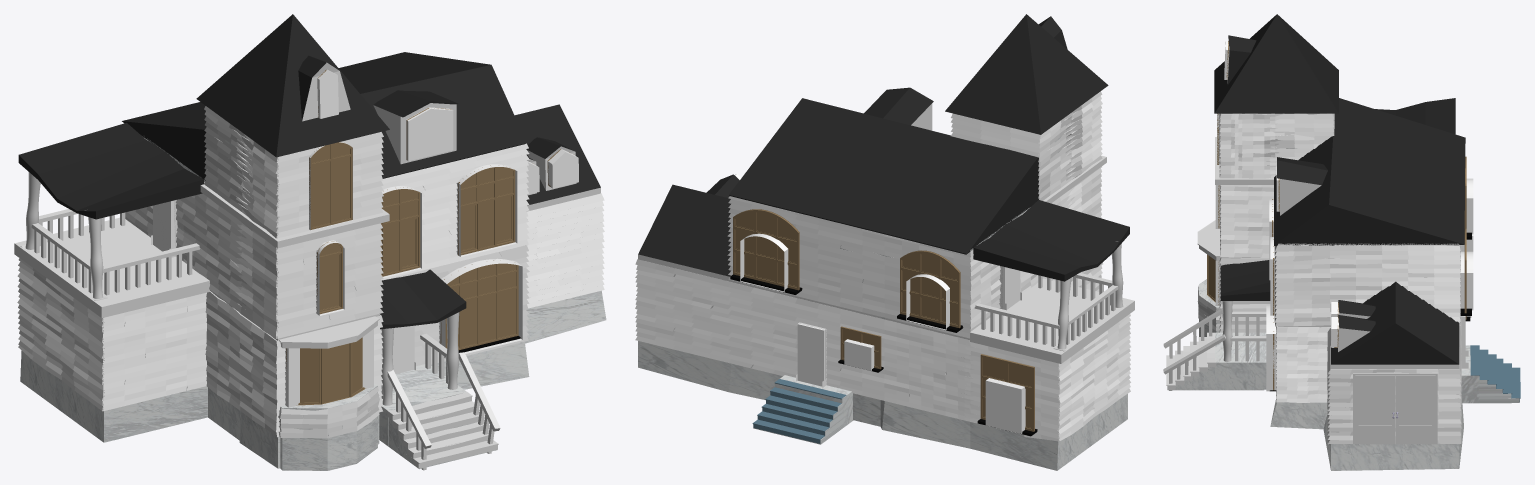
The model's file is Manor2.fbx.
The picture shows the model from 3 angles, left to right: view 1: azimuth 30°, elevation 25°; view 2: azimuth 150°, elevation 25°; view 3: azimuth 270°, elevation 25°; orthographic projection. The views are drawn at different scales.
Visible parts, largest first — view 1: Cube.001, Cube.002, Cube, Cube.005, Cube.004, Cube.003, Cube.009, Cube.008, Window.014, Stairs, Window.004, Cube.015 (+30 smaller); view 2: Cube.001, Cube.005, Cube, Cube.002, Cube.004, Cube.009, Cube.003, Cube.008, Window.005, Window.009, Stairs.001, Window.008 (+16 smaller); view 3: Cube.005, Cube.002, Cube, Cube.001, Cube.004, Cube.003, Door, Door.002, Cube.010, Cube.006, Stairs.001, Cube.009 (+17 smaller).
Boxes of the visible parts, left/top/right/bottom form: Cube.001: left=17, top=193, right=604, bottom=437; Cube.002: left=125, top=138, right=529, bottom=338; Cube: left=20, top=104, right=606, bottom=468; Cube.005: left=122, top=52, right=526, bottom=180; Cube.004: left=196, top=14, right=389, bottom=157; Cube.003: left=204, top=106, right=383, bottom=238; Cube.009: left=18, top=122, right=203, bottom=219; Cube.008: left=14, top=217, right=209, bottom=317; Window.014: left=440, top=260, right=520, bottom=352; Stairs: left=387, top=391, right=498, bottom=468; Window.004: left=458, top=165, right=515, bottom=255; Cube.015: left=280, top=383, right=377, bottom=470; Cube.001: left=635, top=259, right=1130, bottom=441; Cube.005: left=729, top=98, right=1039, bottom=254; Cube: left=638, top=114, right=1127, bottom=470; Cube.002: left=727, top=166, right=1102, bottom=338; Cube.004: left=945, top=14, right=1108, bottom=134; Cube.009: left=973, top=200, right=1129, bottom=281; Cube.003: left=950, top=91, right=1102, bottom=200; Cube.008: left=970, top=278, right=1134, bottom=363; Window.005: left=730, top=209, right=802, bottom=294; Window.009: left=897, top=250, right=963, bottom=332; Stairs.001: left=752, top=379, right=846, bottom=443; Window.008: left=977, top=354, right=1037, bottom=436; Cube.005: left=1274, top=98, right=1465, bottom=245; Cube.002: left=1220, top=185, right=1460, bottom=326; Cube: left=1215, top=113, right=1463, bottom=470; Cube.001: left=1219, top=245, right=1461, bottom=444; Cube.004: left=1214, top=14, right=1338, bottom=113; Cube.003: left=1219, top=113, right=1334, bottom=178; Door: left=1355, top=375, right=1395, bottom=444; Door.002: left=1395, top=375, right=1435, bottom=444; Cube.010: left=1220, top=260, right=1270, bottom=300; Cube.006: left=1277, top=157, right=1327, bottom=215; Stairs.001: left=1470, top=345, right=1520, bottom=401; Cube.009: left=1375, top=98, right=1455, bottom=134.
Bounding box in the file's own units: 1618 × 1281 × 1265.
